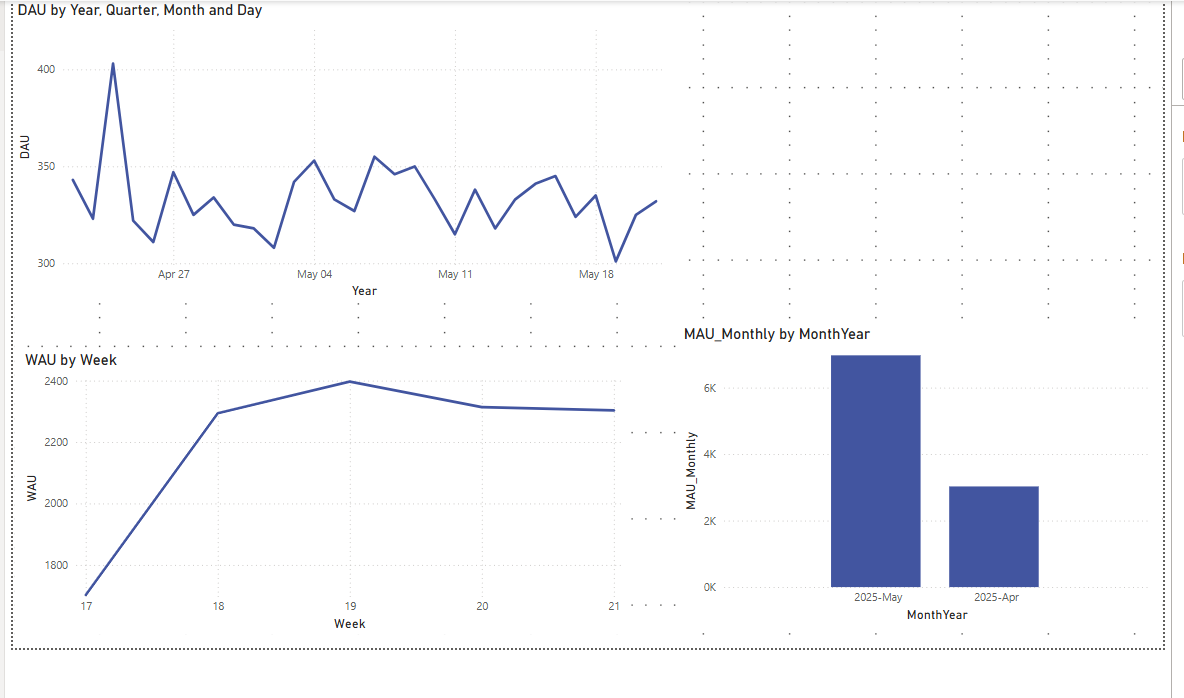

What the dashboard file says about the page in this screenshot:
{"tool":"powerbi","page":{"name":"DAU/WAU/MAU","canvas":[1280,720],"ordinal":0},"visuals":[{"type":"lineChart","fields":{"Category":["Calendar.Date.Variation.Date Hierarchy.Year","Calendar.Date.Variation.Date Hierarchy.Quarter","Calendar.Date.Variation.Date Hierarchy.Month","Calendar.Date.Variation.Date Hierarchy.Day"],"Y":["Calendar.DAU"]},"box":[0,0,740.9,336],"z":0},{"type":"lineChart","fields":{"Y":["Calendar.WAU"],"Category":["Calendar.Week"]},"box":[8.6,390.2,675.7,316.3],"z":1000},{"type":"clusteredColumnChart","fields":{"Y":["Calendar.MAU_Monthly"],"Category":["Calendar.MonthYear"]},"box":[740.9,360.6,529.2,336],"z":2000}]}

Visuals, with their boxes on the page's 1280x720 design canvas (x1, y1, x2, y2). These are canvas units, not pixel positions in the 1184x698 screenshot, which may show the page scaled, cropped or inside an application window:
lineChart - Calendar.Date.Variation.Date Hierarchy.Year x Calendar.Date.Variation.Date Hierarchy.Quarter: bbox=(0, 0, 741, 336)
lineChart - Calendar.WAU x Calendar.Week: bbox=(9, 390, 684, 706)
clusteredColumnChart - Calendar.MAU_Monthly x Calendar.MonthYear: bbox=(741, 361, 1270, 697)
